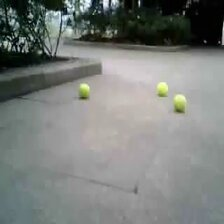tennis: (172, 95, 186, 111), (78, 83, 91, 97), (155, 82, 168, 95)
